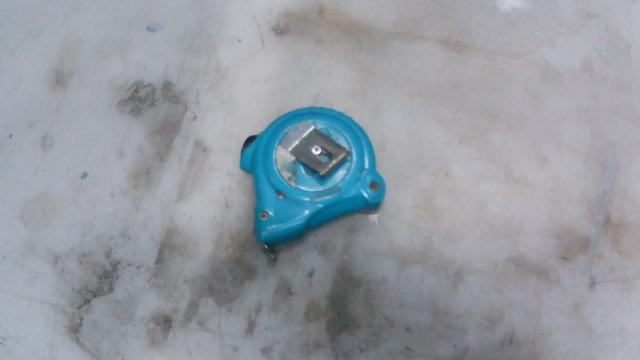meteran: (227, 75, 399, 280)
